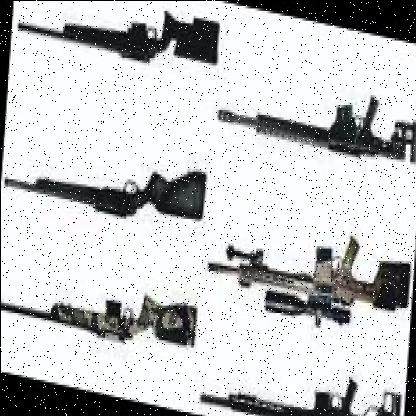rifle: (2, 141, 206, 240), (206, 226, 410, 324), (218, 75, 416, 174), (0, 268, 197, 366), (15, 0, 219, 82), (200, 354, 404, 416)
